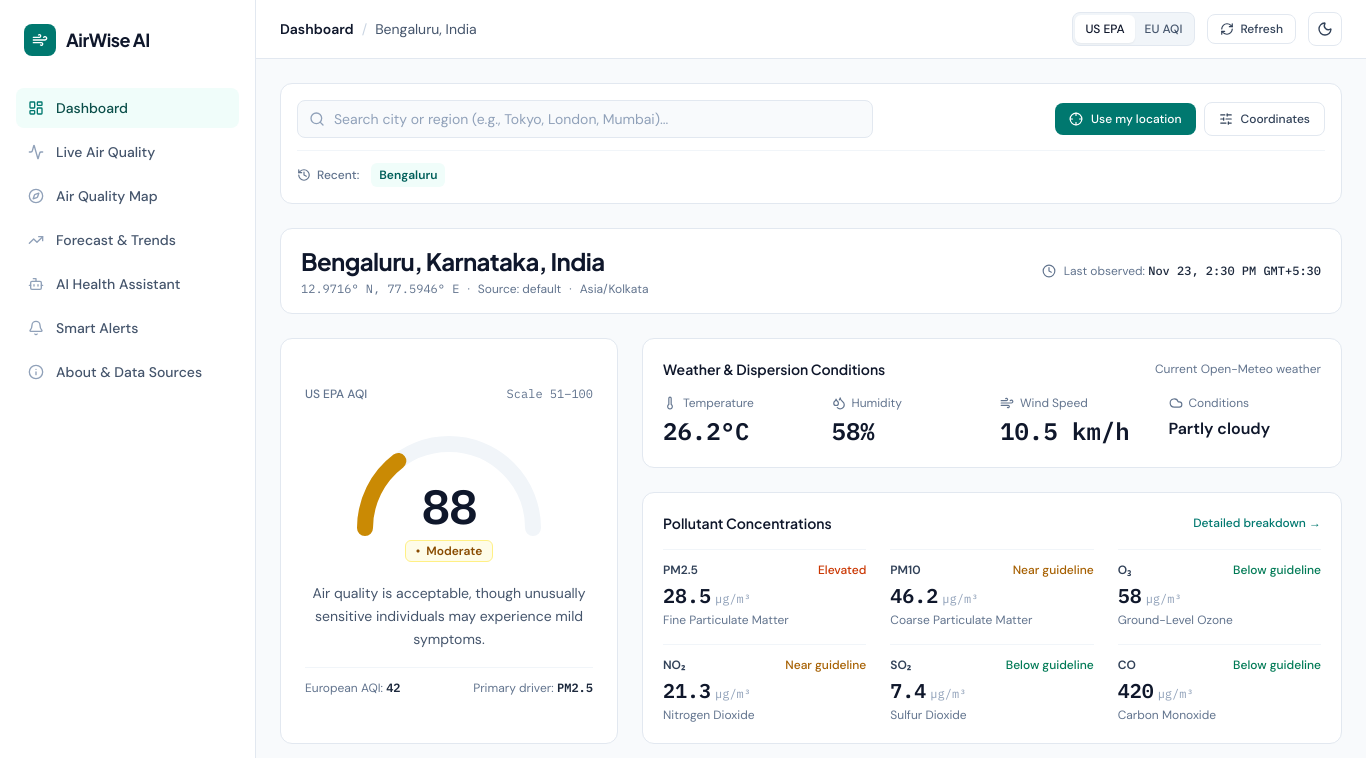
Test case: Dashboard Frontend Tests › toggles between US EPA AQI and European AQI scales and updates recommendations
expect the text "88" is shown: met, box [421,475,477,537]
Click the button "EU AQI": (1164, 29) [1135,15,1192,43]
(page scrolled)
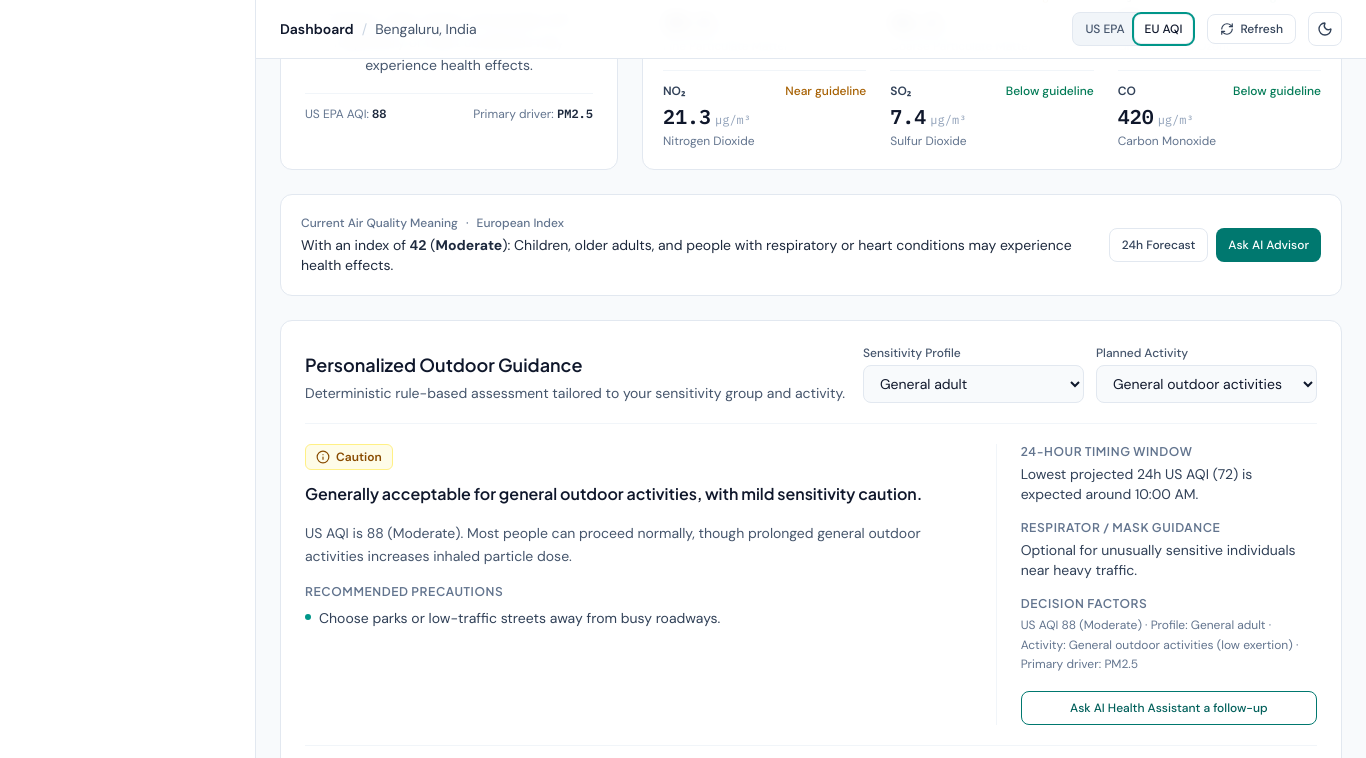
Select "Sensitive respiratory group" in the dropdown labelled "Sensitivity Profile": (974, 384) [863,365,1084,403]
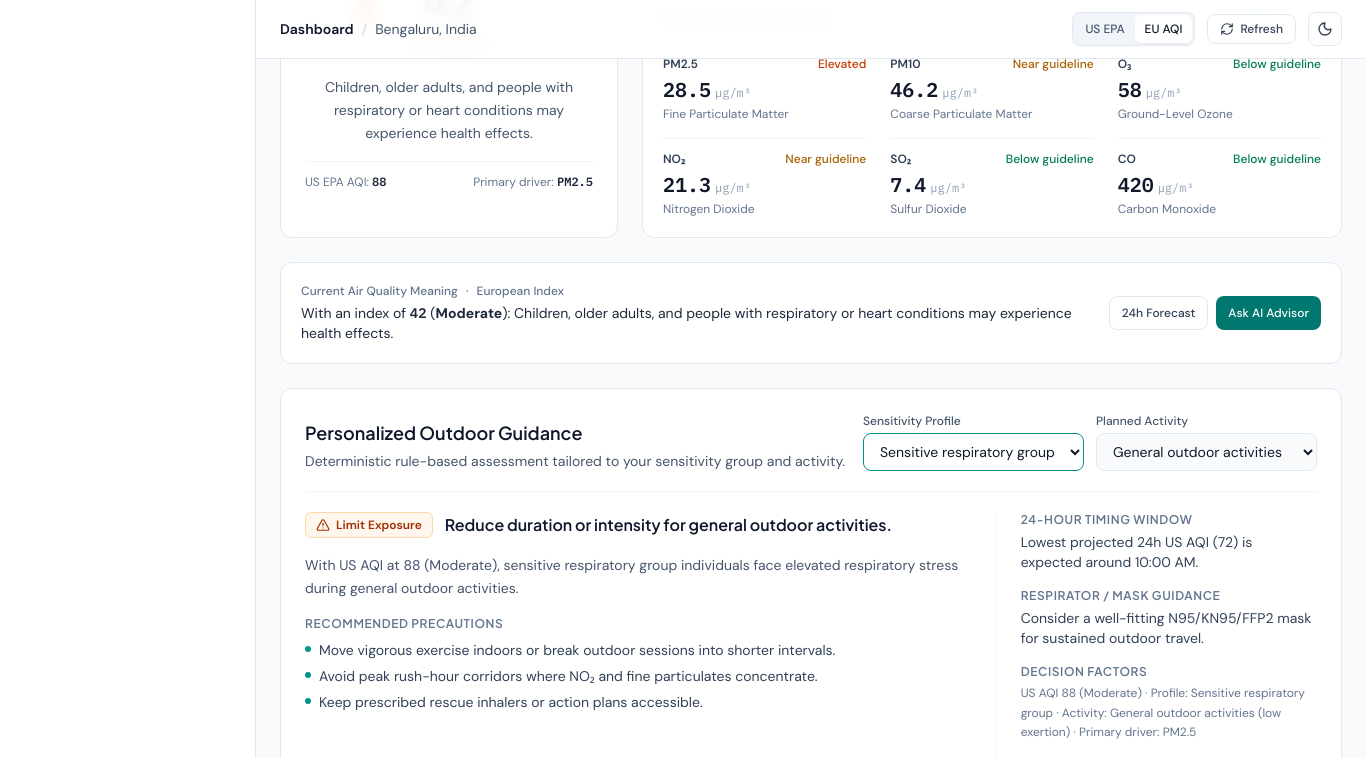
expect the text "Limit Exposure" is shown: met, box [336,517,422,533]
